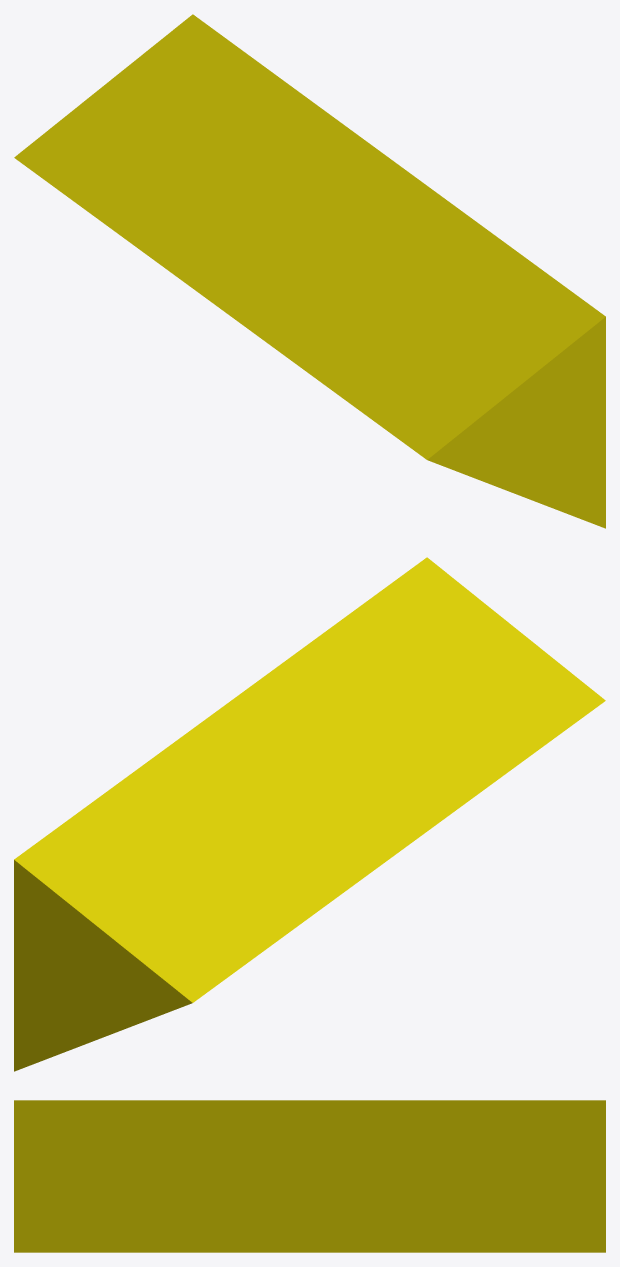
File: _triangle.obj
3 views of the same model, one above another, from view 1: azimuth 30°, elevation 25°; view 2: azimuth 150°, elevation 25°; view 3: azimuth 270°, elevation 25° (orthographic). The views are drawn at different scales.
Visible parts, largest first — view 1: ___04; view 2: ___04; view 3: ___04.
Part boxes in pixels (bbox=[...]): ___04: bbox=[14, 14, 605, 528]; ___04: bbox=[14, 557, 605, 1071]; ___04: bbox=[14, 1100, 605, 1252].
Bounding box in the file's own units: 0.0025 × 0.00283 × 0.01.
